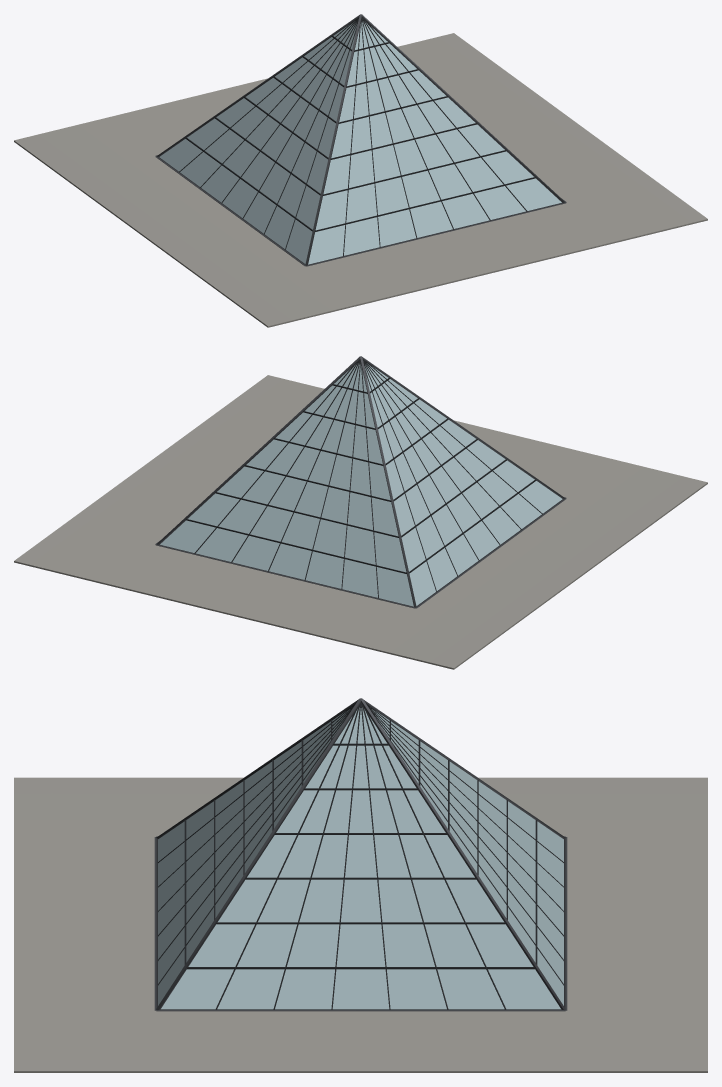
File: louvre.glb
3 views of the same model, one above another, from view 1: azimuth 30°, elevation 25°; view 2: azimuth 150°, elevation 25°; view 3: azimuth 270°, elevation 25° (orthographic). The views are drawn at different scales.
Parts seen in each view (by area): view 1: lack, glas; view 2: lack, glas; view 3: lack, glas.
Boxes of the visible parts, x1,y1,x2,y2 form: lack: (14, 14, 707, 327); glas: (159, 21, 561, 264); lack: (14, 356, 707, 669); glas: (160, 363, 562, 606); lack: (14, 698, 707, 1072); glas: (158, 707, 563, 1009).
Bounding box in the file's own units: 60 × 21.8 × 60.
